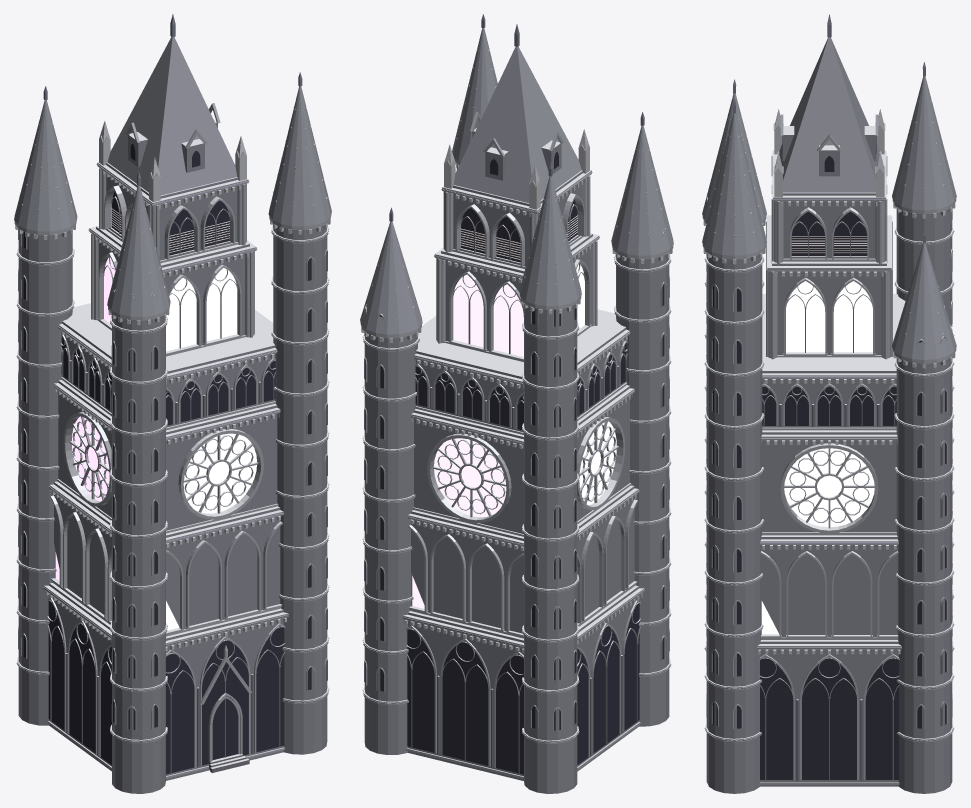
The model's file is AR_Torre_Palacio.fbx.
3 renders of one model, left to right at view 1: azimuth 30°, elevation 25°; view 2: azimuth 150°, elevation 25°; view 3: azimuth 270°, elevation 25°, orthographic. The views are drawn at different scales.
Parts seen in each view (by area): view 1: AR_Torre_Palacio; view 2: AR_Torre_Palacio; view 3: AR_Torre_Palacio.
Part boxes in pixels (x1,y1,x2,y2): AR_Torre_Palacio: [14, 14, 331, 793]; AR_Torre_Palacio: [360, 14, 673, 793]; AR_Torre_Palacio: [702, 14, 956, 793].
Bounding box in the file's own units: 26.6 × 83.82 × 26.6.
